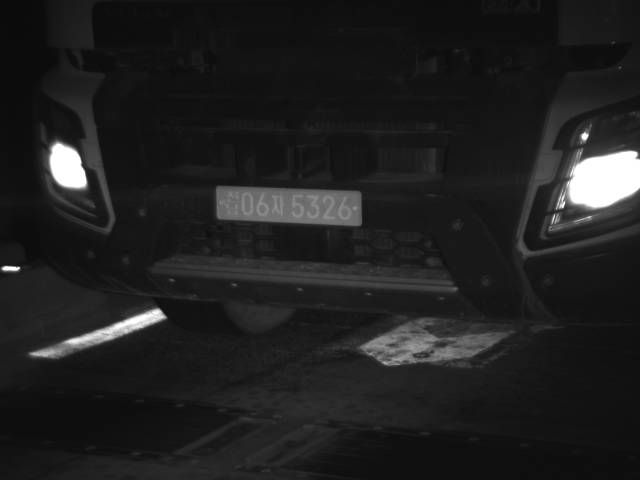car: (27, 1, 638, 337)
plate: (214, 184, 364, 227)
